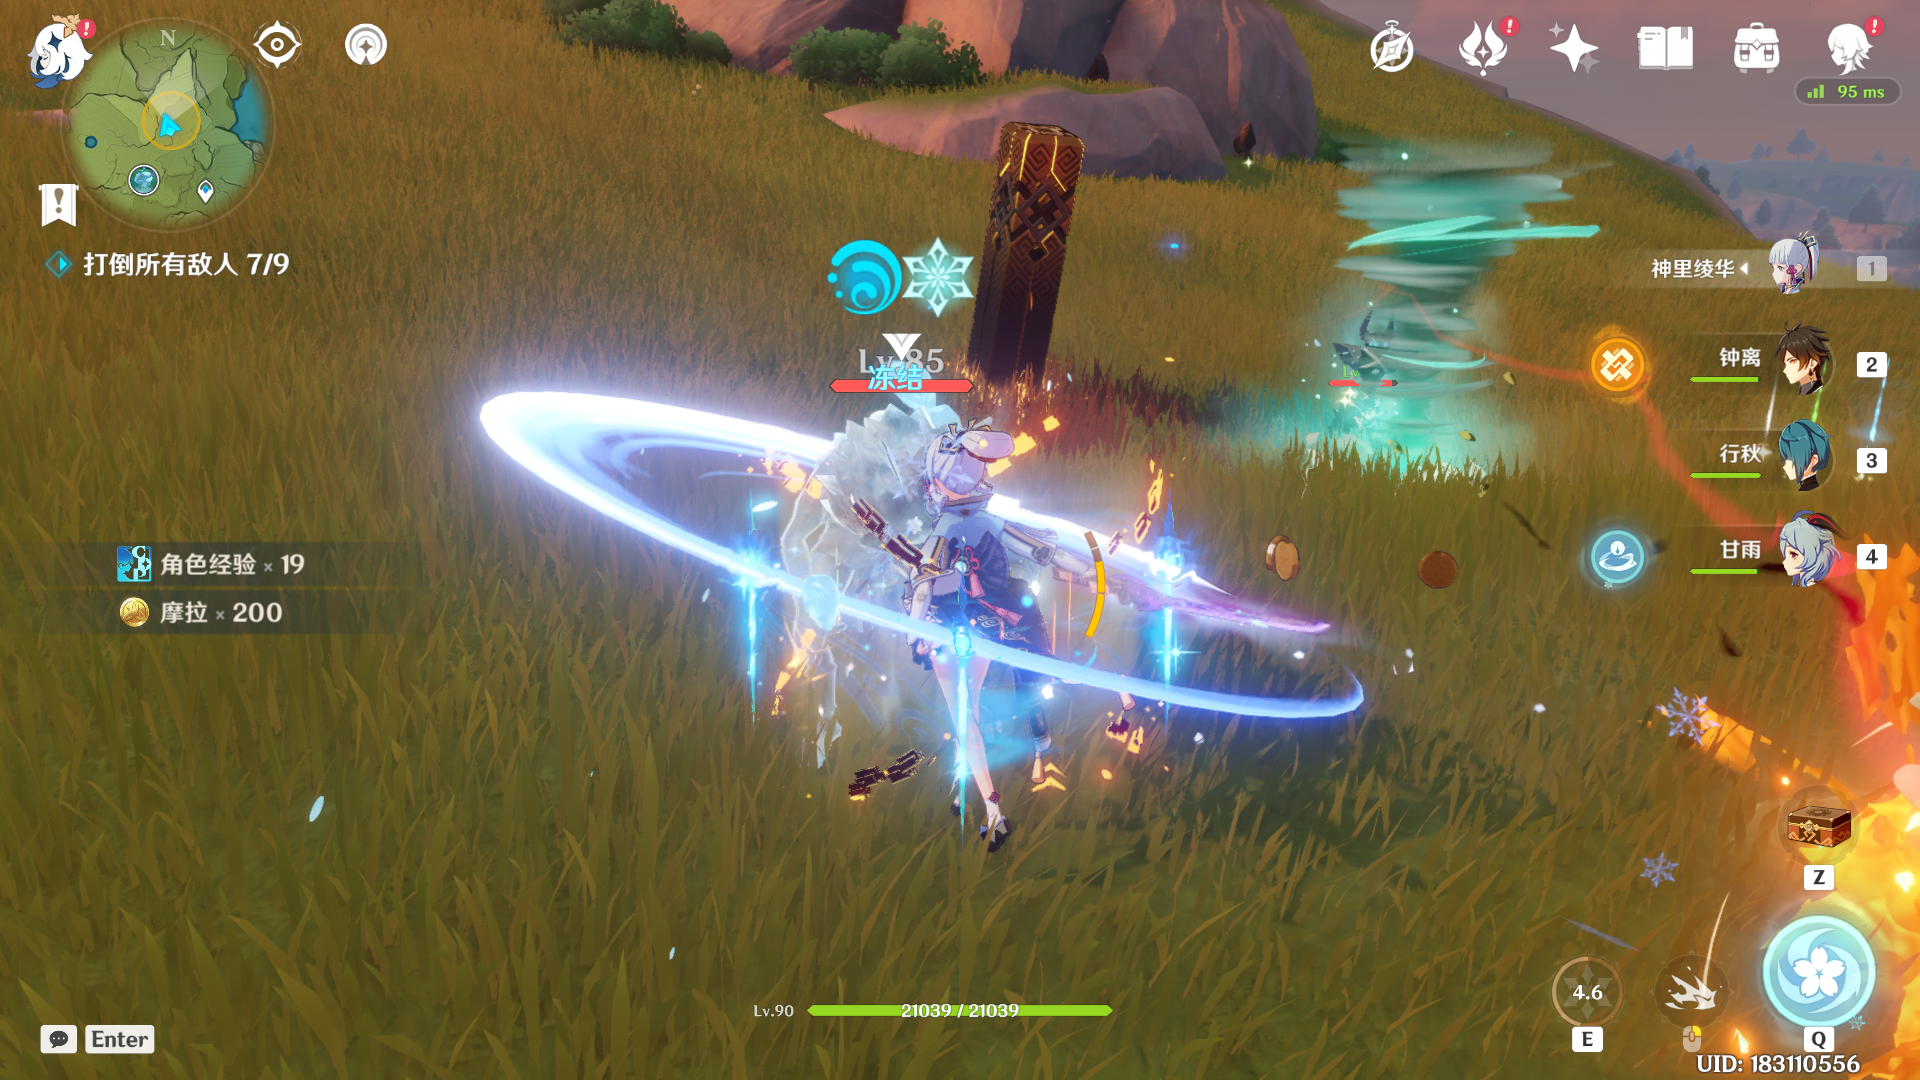character: (873, 425, 1112, 848)
